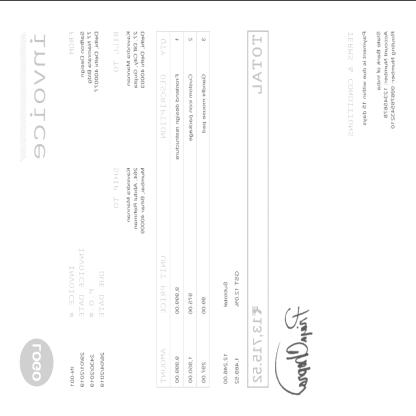Paragraph: (247, 30, 269, 388), (344, 24, 398, 140), (67, 244, 107, 390), (27, 30, 48, 160), (111, 164, 146, 235), (111, 26, 147, 92), (221, 268, 241, 386), (66, 27, 100, 95)
Table: (156, 29, 210, 386)
